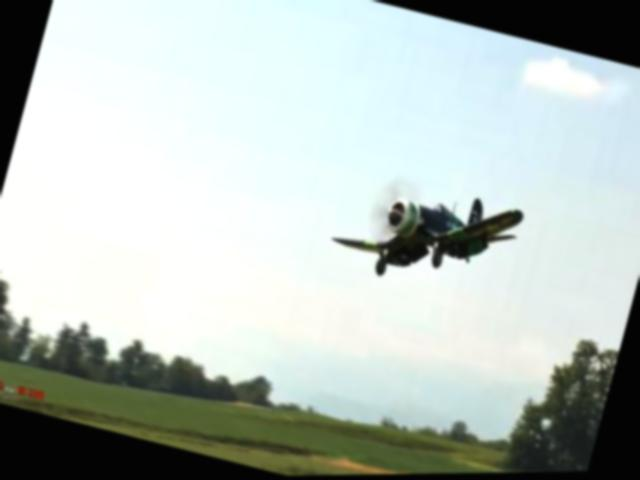uav: (320, 159, 534, 320)
